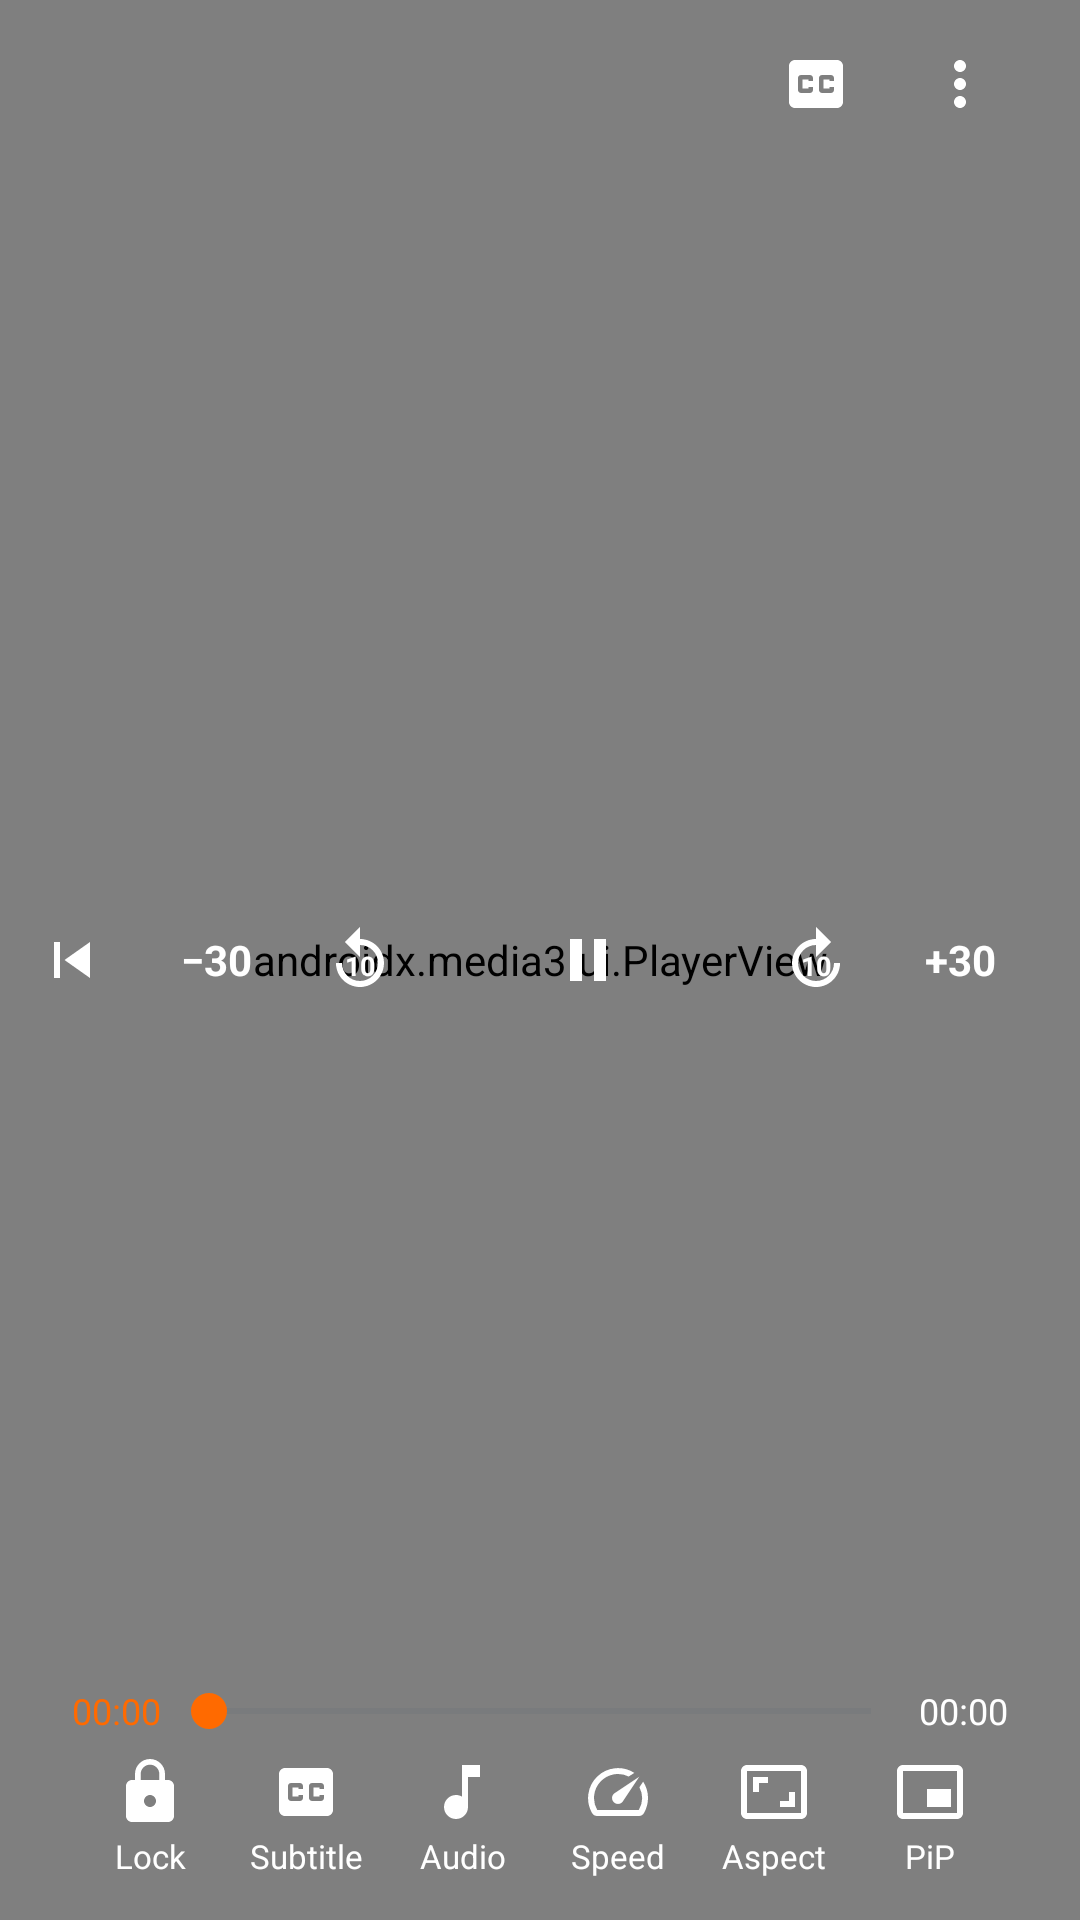

Icons on this 1080*1920 Android screen, each with its box as (x1, y1, x2, y2):
More options: (954, 60, 966, 108)
Previous video: (54, 942, 90, 978)
Subtitles: (789, 60, 843, 108)
